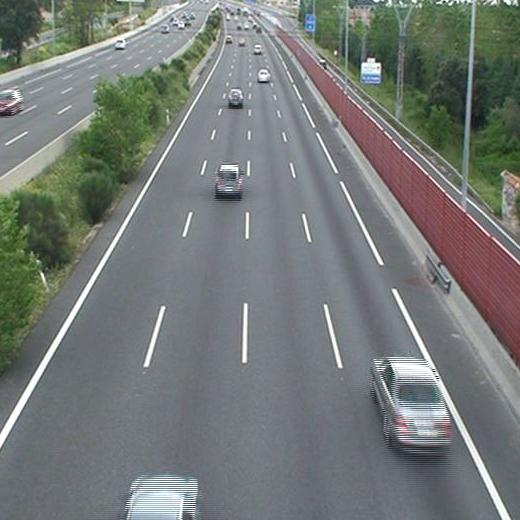car: (371, 358, 450, 451), (215, 164, 242, 195), (228, 90, 243, 105), (257, 70, 271, 82), (253, 45, 262, 54), (237, 38, 244, 46), (224, 36, 232, 42)
